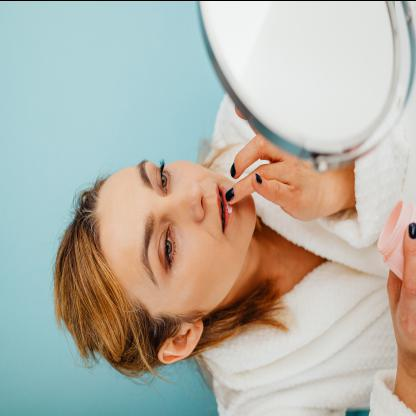Eye: (158, 224, 178, 274), (155, 164, 173, 196)
Mouth: (215, 182, 233, 235)
Nose: (167, 179, 205, 222)
